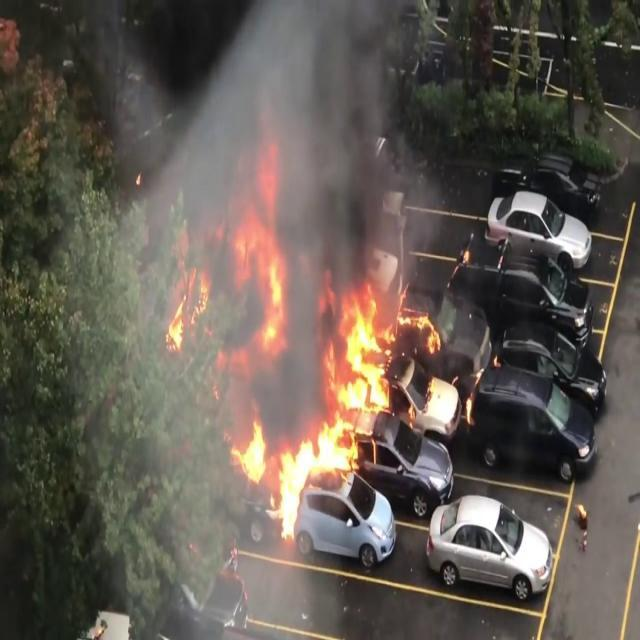Fire: (316, 279, 462, 456), (225, 398, 326, 546)
Smoke: (94, 0, 430, 292)
